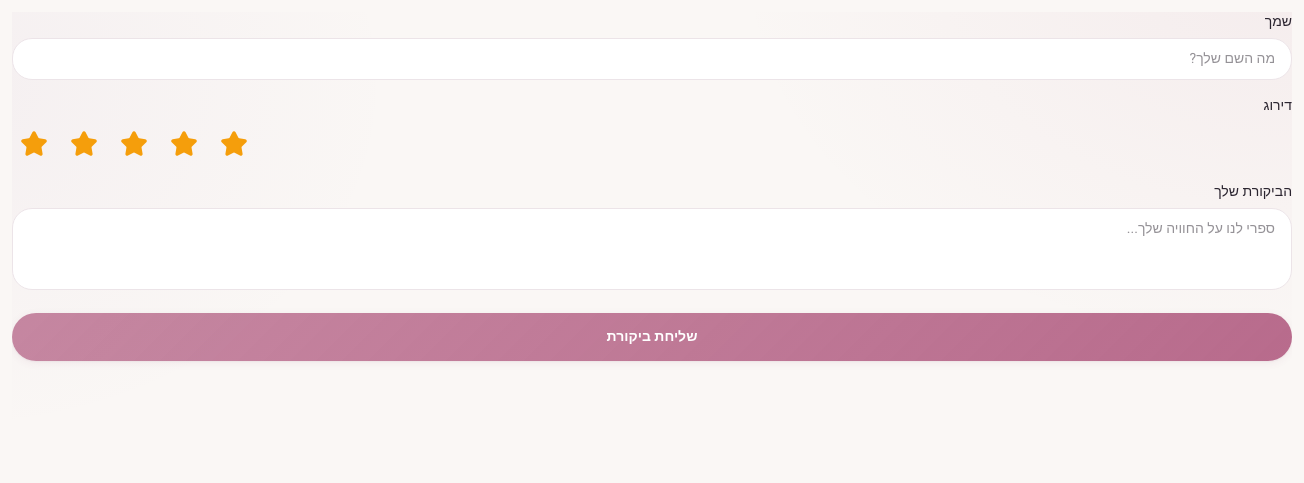
Test: PublicReviewForm — error states › shows a top-level form error and per-field errors
The image size is (1304, 483).
Click the button "שליחת ביקורת": (652,337) [12, 313, 1292, 361]
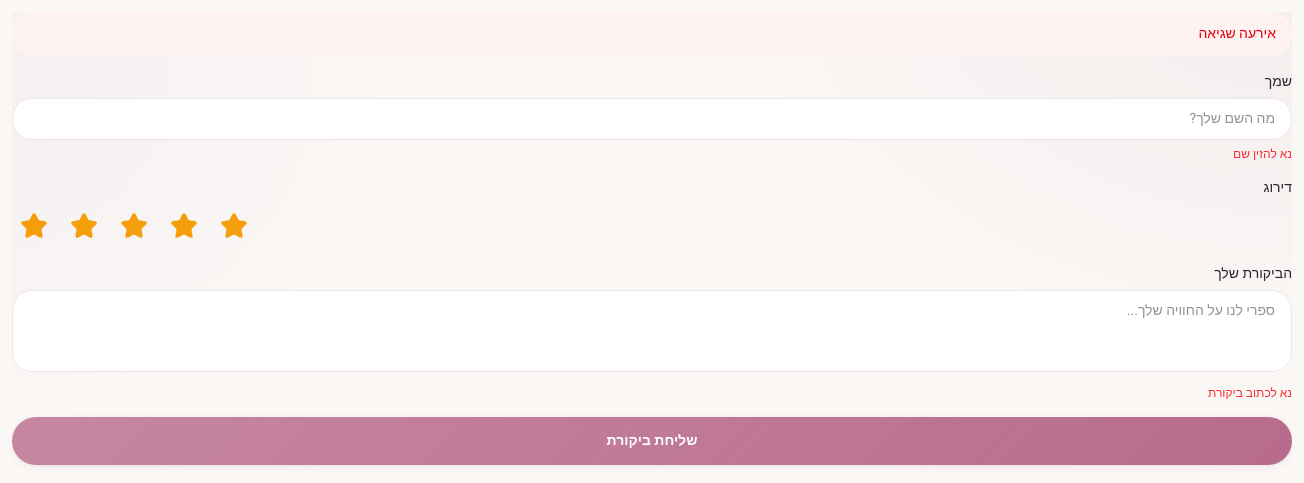
Result: the text "אירעה שגיאה" is shown at [12, 12, 1292, 56]
Result: the text "נא להזין שם" is shown at [1233, 145, 1292, 163]
Result: the text "נא לכתוב ביקורת" is shown at [1208, 384, 1292, 402]
